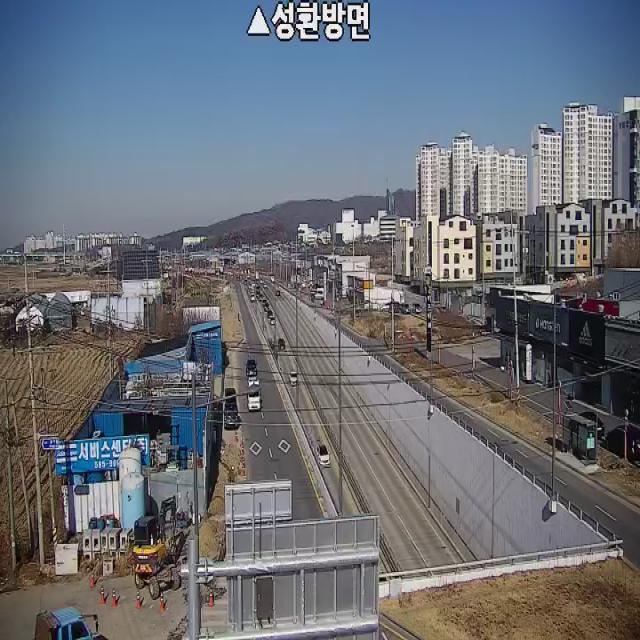Car: (605, 424, 640, 460), (573, 411, 604, 441), (316, 446, 331, 468), (246, 358, 256, 376), (289, 370, 297, 386), (278, 338, 286, 350), (267, 310, 273, 319), (270, 318, 275, 324)
Truck: (34, 607, 99, 640), (223, 388, 237, 428), (248, 379, 260, 410)
